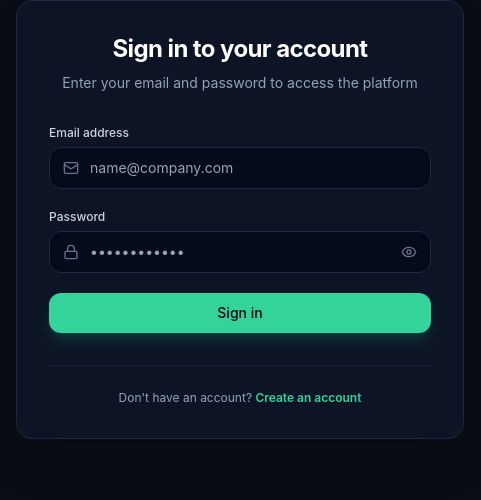
Test case: LoginForm Component › displays client-side validation errors when submitting empty form
Click the button "Sign in" at (240, 313), box [49, 293, 431, 333]
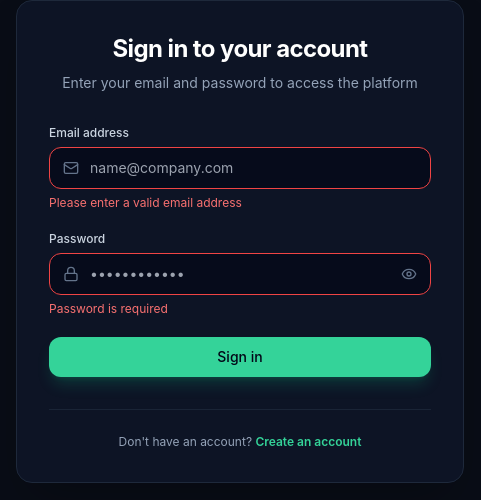
Expected: the text "Please enter a valid email address" is shown, [49, 195, 242, 211]
Expected: the text "Password is required" is shown, [49, 301, 168, 316]
